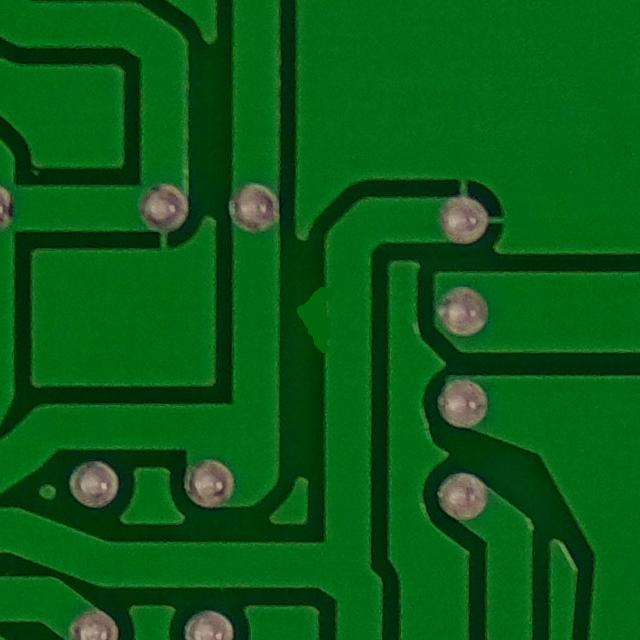spur: (291, 265, 349, 376)
